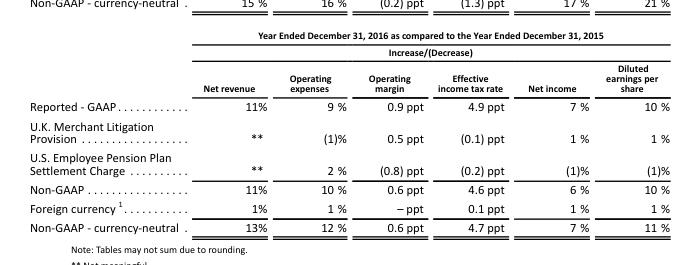table: (28, 28, 669, 234)
table column: (28, 28, 194, 234), (429, 28, 515, 234), (194, 28, 277, 234), (515, 28, 596, 234), (277, 28, 356, 234), (356, 28, 429, 234), (596, 28, 669, 234)
table column header: (28, 28, 669, 95)
table row: (28, 59, 669, 95), (28, 115, 669, 147), (28, 147, 669, 179), (28, 28, 669, 59), (28, 95, 669, 115), (28, 197, 669, 217), (28, 179, 669, 197), (28, 217, 669, 234)
table spanning cell: (194, 28, 669, 59)
